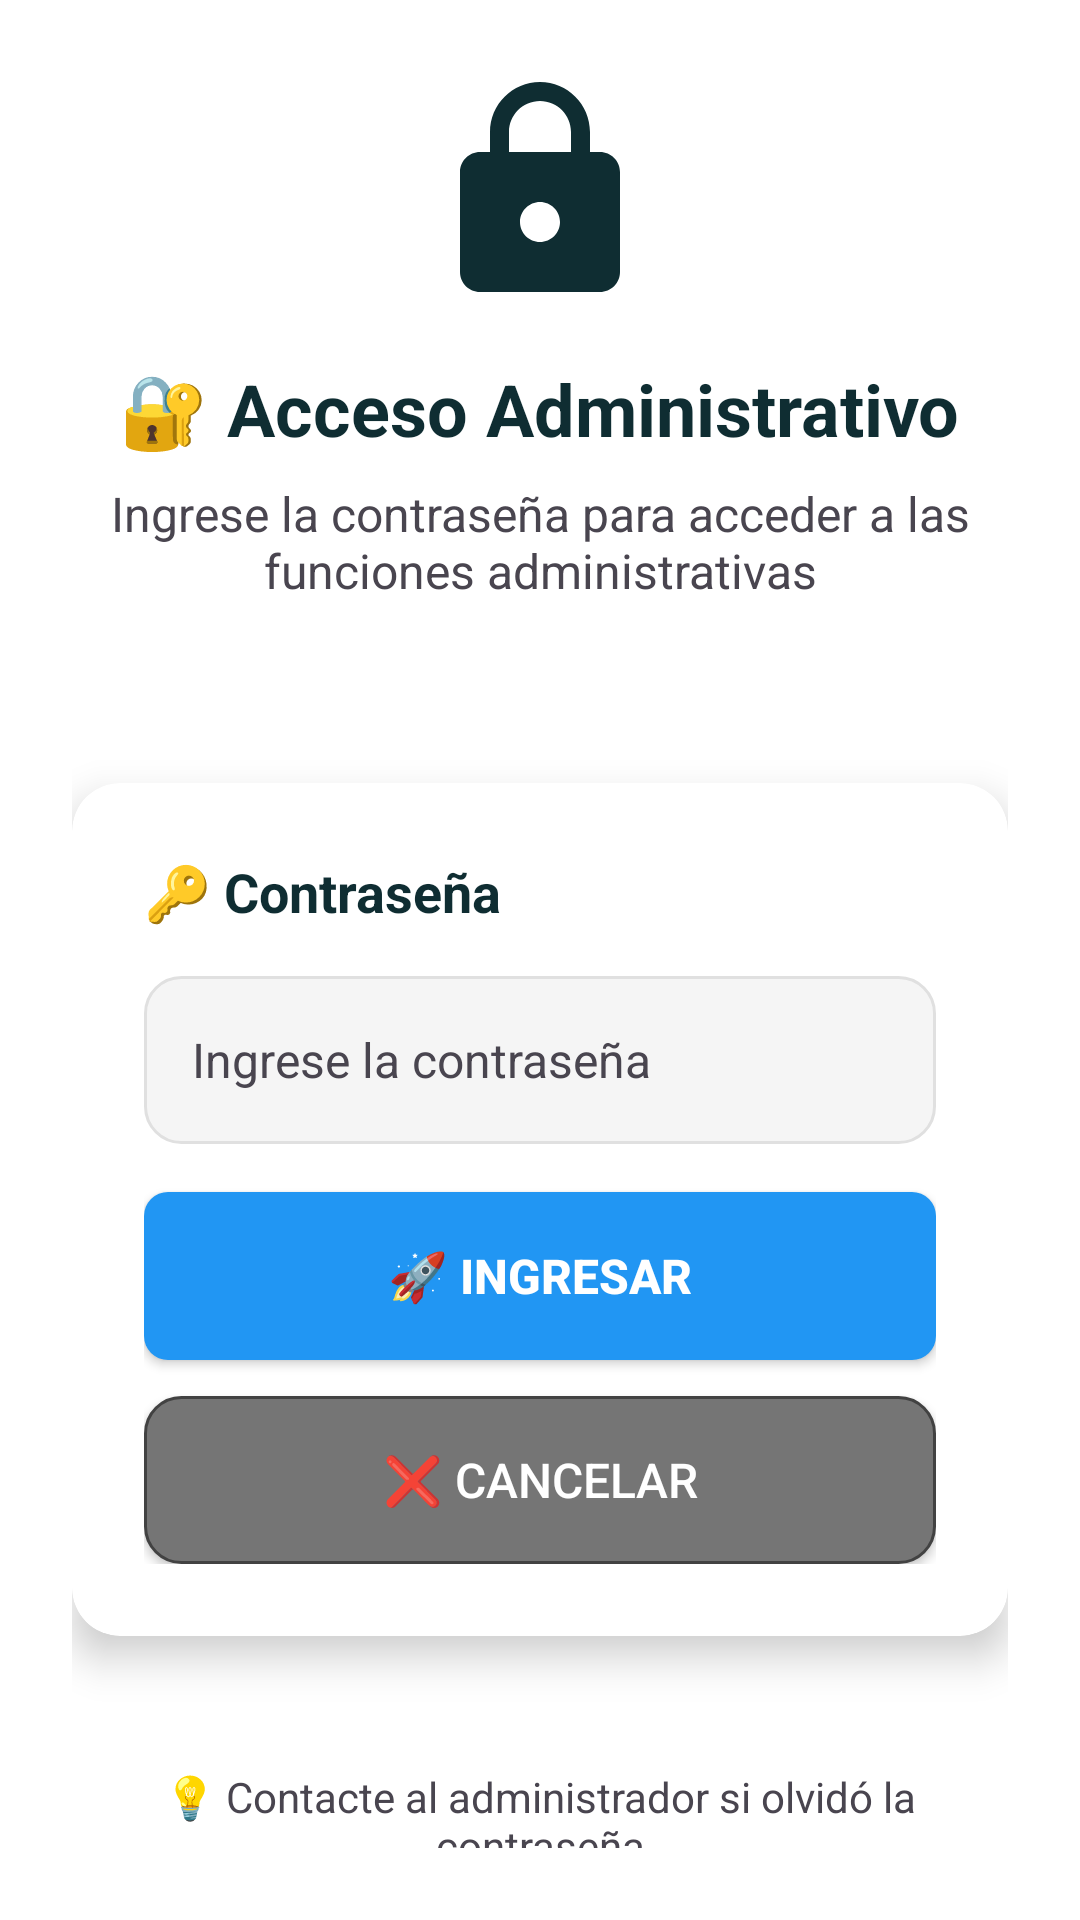

Named icons in this screenshot (1080w x 1920h) and their bounding boxes, (x1, y1, x2, y2):
Icono de seguridad: (460, 82, 620, 292)
